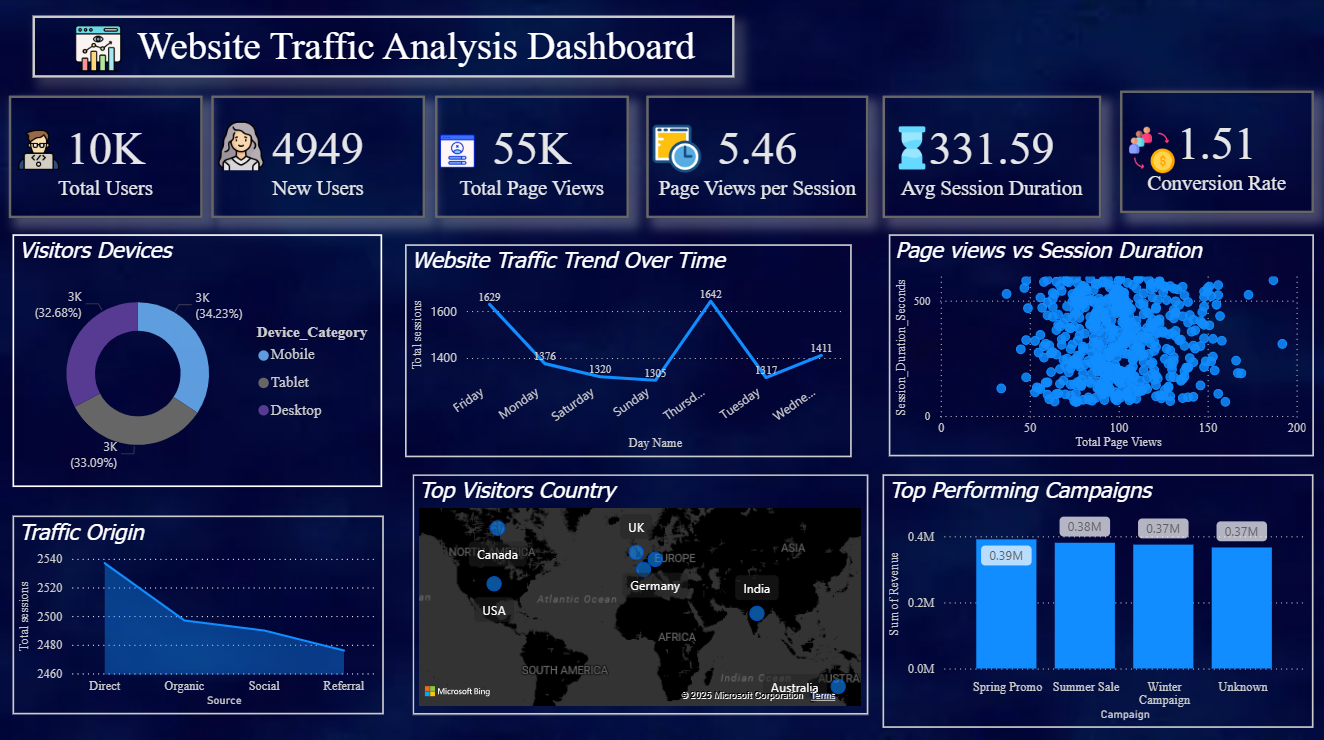

The page's visual inventory and layout, read from the dashboard file:
{"tool":"powerbi","page":{"name":"Page 1","canvas":[1280,720],"ordinal":0},"visuals":[{"type":"textbox","box":[31.6,16.5,677.9,60.4],"z":0},{"type":"card","fields":{"Values":["web_marketing_data.Total Users"]},"box":[8.4,94.1,187,118.2],"z":1000},{"type":"lineChart","title":"Website Traffic Trend Over Time","fields":{"Category":["web_marketing_data.Date.Variation.Date Hierarchy.Day"],"Y":["web_marketing_data.Total sessions"]},"box":[391.1,237.4,430.9,205.8],"z":2000},{"type":"donutChart","title":"Visitors Devices","fields":{"Category":["web_marketing_data.Device_Category"],"Y":["web_marketing_data.Total Users"]},"box":[12.1,228,357.1,243.7],"z":3000},{"type":"map","title":"Top Visitors Country","fields":{"Size":["web_marketing_data.Total Users","select"],"Category":["web_marketing_data.Country"]},"box":[398.1,459.7,440.4,231.6],"z":4000},{"type":"scatterChart","title":"Page views vs Session Duration","fields":{"X":["web_marketing_data.Total Page Views"],"Y":["web_marketing_data.Session_Duration_Seconds"]},"box":[857.8,228,410.2,214.7],"z":5000},{"type":"stackedAreaChart","title":"Traffic Origin","fields":{"Category":["web_marketing_data.Source"],"Y":["web_marketing_data.Total sessions"]},"box":[12.1,499.5,358.3,191.8],"z":6000},{"type":"card","fields":{"Values":["web_marketing_data.Avg Session Duration"]},"box":[851.7,94.1,211.1,118.2],"z":7000},{"type":"card","fields":{"Values":["web_marketing_data.New Users"]},"box":[203.9,94.1,206.3,118.2],"z":8000},{"type":"card","fields":{"Values":["web_marketing_data.Conversion Rate"]},"box":[1081,89.3,187,118.2],"z":9000},{"type":"card","fields":{"Values":["web_marketing_data.Page Views per Session"]},"box":[623.7,94.1,214.7,118.2],"z":10000},{"type":"card","fields":{"Values":["web_marketing_data.Total Page Views"]},"box":[419.8,94.1,187,118.2],"z":11000},{"type":"image","box":[12.1,117,50.7,59.1],"z":12000},{"type":"image","box":[203.9,113.4,57.9,59.1],"z":13000},{"type":"image","box":[1081,119.4,61.5,54.3],"z":14000},{"type":"image","box":[624.9,111,56.7,68.8],"z":15000},{"type":"image","box":[419.8,119.4,43.4,56.7],"z":16000},{"type":"image","box":[851.7,111,56.7,67.6],"z":17000},{"type":"image","box":[63.1,20.6,64.5,56.3],"z":18000},{"type":"lineStackedColumnComboChart","title":"Top Performing Campaigns","fields":{"Category":["web_marketing_data.Campaign"],"Y":["Sum(web_marketing_data.Revenue)"]},"box":[851.7,459.7,416.2,244.9],"z":19000}]}

Visuals, with their boxes in screenshot pixels (x1, y1, x2, y2), scaled from the page's 1280x720 canvas onto the 1324x740 screenshot:
textbox: 33:17:734:79
card - web_marketing_data.Total Users: 9:97:202:218
"Website Traffic Trend Over Time" lineChart: 405:244:850:456
"Visitors Devices" donutChart: 13:234:382:485
"Top Visitors Country" map: 412:472:867:711
"Page views vs Session Duration" scatterChart: 887:234:1312:455
"Traffic Origin" stackedAreaChart: 13:513:383:711
card - web_marketing_data.Avg Session Duration: 881:97:1099:218
card - web_marketing_data.New Users: 211:97:424:218
card - web_marketing_data.Conversion Rate: 1118:92:1312:213
card - web_marketing_data.Page Views per Session: 645:97:867:218
card - web_marketing_data.Total Page Views: 434:97:628:218
image: 13:120:65:181
image: 211:117:271:177
image: 1118:123:1182:179
image: 646:114:705:185
image: 434:123:479:181
image: 881:114:940:184
image: 65:21:132:79
"Top Performing Campaigns" lineStackedColumnComboChart: 881:472:1311:724
